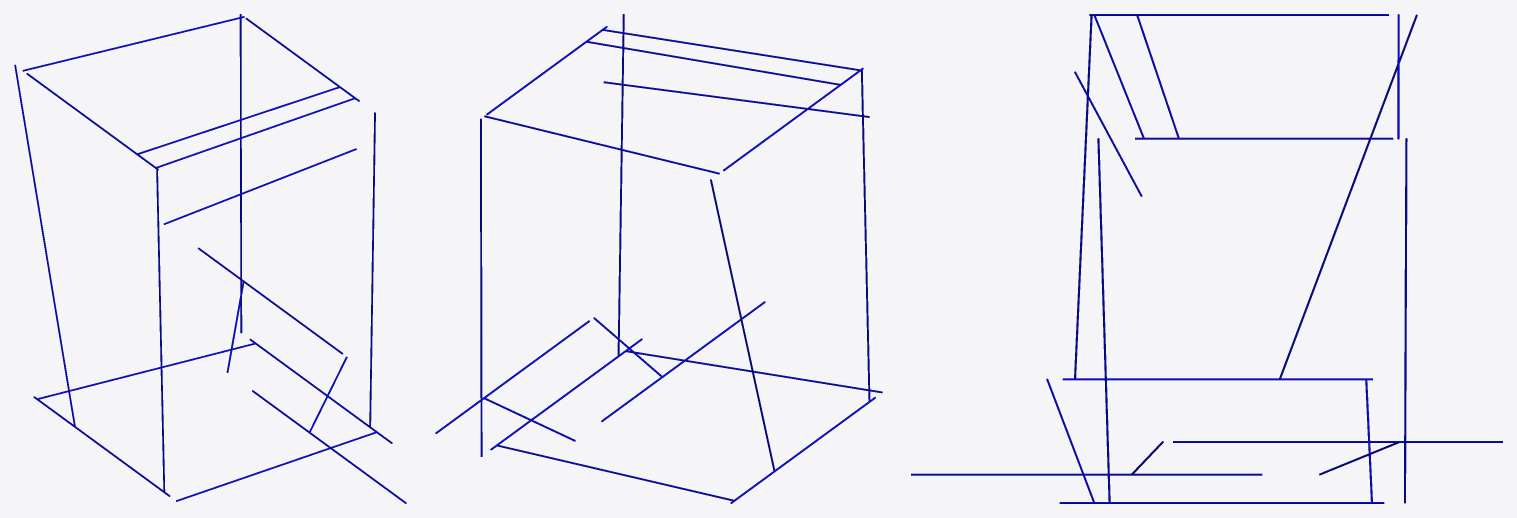
The model's file is corrected_3d_strokes.glb.
3 renders of one model, left to right at view 1: azimuth 30°, elevation 25°; view 2: azimuth 150°, elevation 25°; view 3: azimuth 270°, elevation 25°, orthographic. The views are drawn at different scales.
Visible parts, largest first — view 1: world; view 2: world; view 3: world.
Boxes of the visible parts, bbox=[...] form: world: bbox=[14, 14, 406, 503]; world: bbox=[435, 14, 882, 503]; world: bbox=[911, 14, 1502, 503].
Size of the model in its own units: 5.47 by 7.51 by 10.99.
